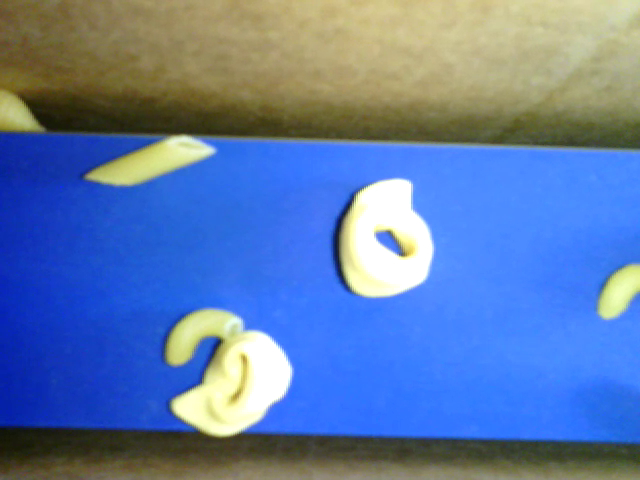elbow: (161, 305, 248, 367), (595, 261, 639, 322)
penne: (82, 130, 224, 188)
shell: (2, 87, 51, 136)
tortellini: (168, 330, 299, 439), (337, 175, 434, 300)
